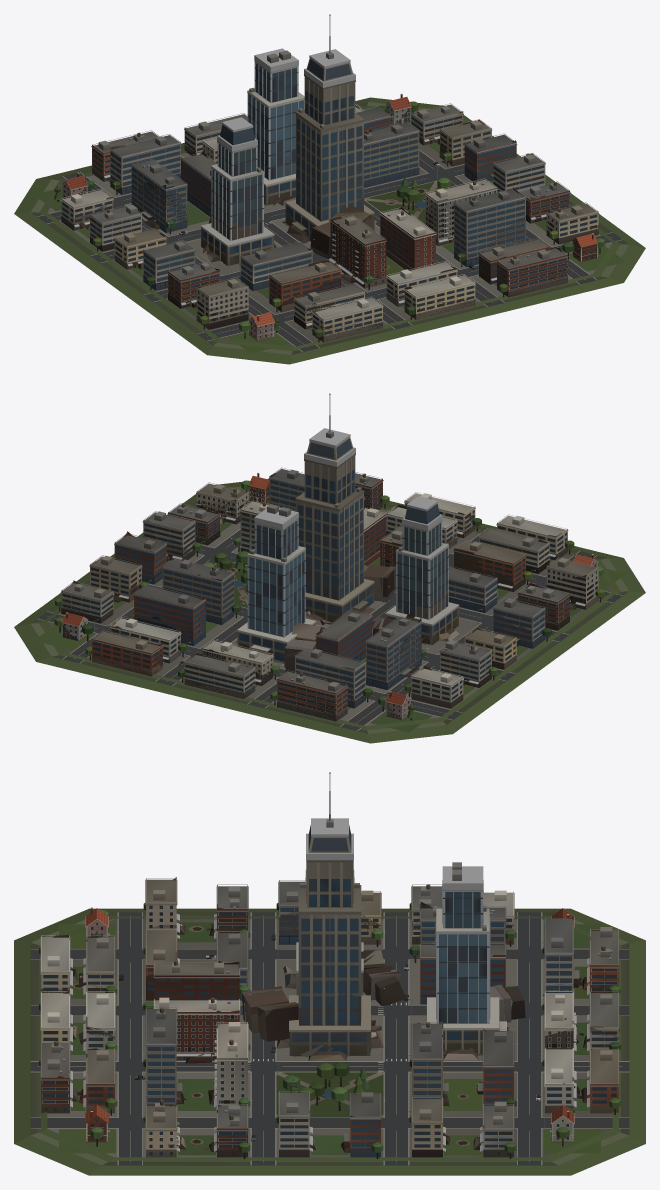
The model's file is city_modern_city_fractured.glb.
3 views of the same model, one above another, from view 1: azimuth 30°, elevation 25°; view 2: azimuth 150°, elevation 25°; view 3: azimuth 270°, elevation 25° (orthographic). The views are drawn at different scales.
Parts seen in each view (by area): view 1: city_modern_city_DMG_mesh, city_modern_city_RUIN_LOD1_mesh, city_modern_city_RUIN_LOD0_mesh, city_modern_city_FRAC_01_mesh, city_modern_city_FRAC_16_mesh, city_modern_city_FRAC_05_mesh, city_modern_city_FRAC_19_mesh, city_modern_city_FRAC_12_mesh, city_modern_city_FRAC_13_mesh, city_modern_city_RUIN_LOD2_mesh, city_modern_city_FRAC_07_mesh, city_modern_city_FRAC_24_mesh (+17 smaller); view 2: city_modern_city_DMG_mesh, city_modern_city_RUIN_LOD1_mesh, city_modern_city_RUIN_LOD0_mesh, city_modern_city_FRAC_01_mesh, city_modern_city_FRAC_05_mesh, city_modern_city_FRAC_03_mesh, city_modern_city_FRAC_13_mesh, city_modern_city_FRAC_20_mesh, city_modern_city_FRAC_12_mesh, city_modern_city_RUIN_LOD2_mesh, city_modern_city_FRAC_08_mesh, city_modern_city_FRAC_07_mesh (+16 smaller); view 3: city_modern_city_RUIN_LOD1_mesh, city_modern_city_DMG_mesh, city_modern_city_RUIN_LOD0_mesh, city_modern_city_FRAC_01_mesh, city_modern_city_FRAC_16_mesh, city_modern_city_RUIN_LOD2_mesh, city_modern_city_FRAC_03_mesh, city_modern_city_FRAC_19_mesh, city_modern_city_FRAC_21_mesh, city_modern_city_FRAC_25_mesh, city_modern_city_FRAC_17_mesh, city_modern_city_FRAC_24_mesh (+16 smaller).
Part boxes in pixels (box(x1,y1,x2,y2)): city_modern_city_DMG_mesh: box(32, 14, 627, 354); city_modern_city_RUIN_LOD1_mesh: box(14, 97, 645, 364); city_modern_city_RUIN_LOD0_mesh: box(37, 96, 622, 351); city_modern_city_FRAC_01_mesh: box(295, 15, 364, 194); city_modern_city_FRAC_16_mesh: box(329, 207, 436, 287); city_modern_city_FRAC_05_mesh: box(211, 117, 264, 226); city_modern_city_FRAC_19_mesh: box(425, 178, 526, 269); city_modern_city_FRAC_12_mesh: box(240, 241, 341, 313); city_modern_city_FRAC_13_mesh: box(131, 154, 216, 234); city_modern_city_RUIN_LOD2_mesh: box(39, 105, 620, 351); city_modern_city_FRAC_07_mesh: box(168, 262, 249, 324); city_modern_city_FRAC_24_mesh: box(464, 133, 545, 191); city_modern_city_DMG_mesh: box(32, 393, 627, 733); city_modern_city_RUIN_LOD1_mesh: box(14, 479, 645, 743); city_modern_city_RUIN_LOD0_mesh: box(37, 473, 622, 730); city_modern_city_FRAC_01_mesh: box(295, 394, 364, 573); city_modern_city_FRAC_05_mesh: box(395, 496, 448, 605); city_modern_city_FRAC_03_mesh: box(249, 504, 304, 615); city_modern_city_FRAC_13_mesh: box(316, 610, 428, 689); city_modern_city_FRAC_20_mesh: box(127, 557, 243, 637); city_modern_city_FRAC_12_mesh: box(448, 540, 535, 612); city_modern_city_RUIN_LOD2_mesh: box(39, 490, 620, 730); city_modern_city_FRAC_08_mesh: box(464, 598, 551, 663); city_modern_city_FRAC_07_mesh: box(518, 557, 604, 624); city_modern_city_RUIN_LOD1_mesh: box(14, 878, 645, 1175); city_modern_city_DMG_mesh: box(31, 772, 628, 1164); city_modern_city_RUIN_LOD0_mesh: box(30, 877, 629, 1165); city_modern_city_FRAC_01_mesh: box(298, 772, 361, 993); city_modern_city_FRAC_16_mesh: box(142, 961, 251, 1060); city_modern_city_RUIN_LOD2_mesh: box(39, 902, 620, 1161); city_modern_city_FRAC_03_mesh: box(436, 862, 490, 998); city_modern_city_FRAC_19_mesh: box(134, 1007, 251, 1107); city_modern_city_FRAC_21_mesh: box(536, 1048, 619, 1112); city_modern_city_FRAC_25_mesh: box(408, 1097, 516, 1158); city_modern_city_FRAC_17_mesh: box(541, 991, 619, 1051); city_modern_city_FRAC_24_mesh: box(275, 1092, 383, 1157).
Size of the model in its own units: 266 by 128 by 266.
